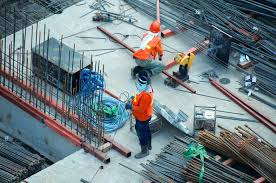helmet: (151, 21, 161, 32)
vest: (133, 94, 152, 116), (140, 38, 158, 58)
